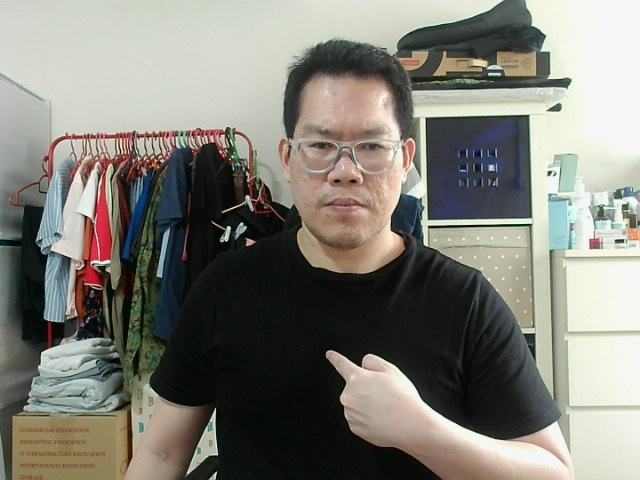I: (329, 352, 410, 428)
